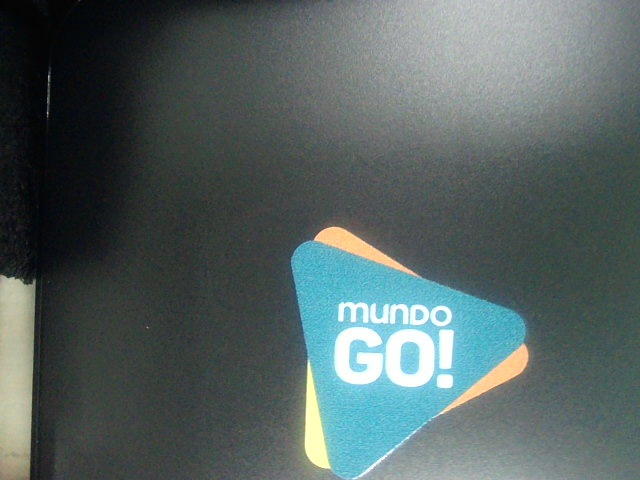AP_IPGMundoGO: (257, 221, 538, 479)
